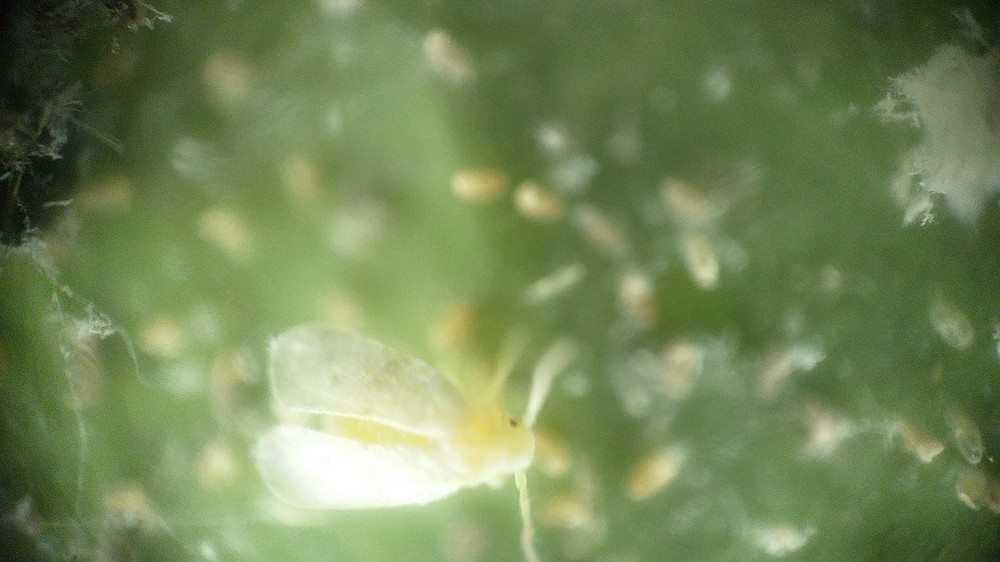Mosca Blanca: (258, 297, 595, 561)
